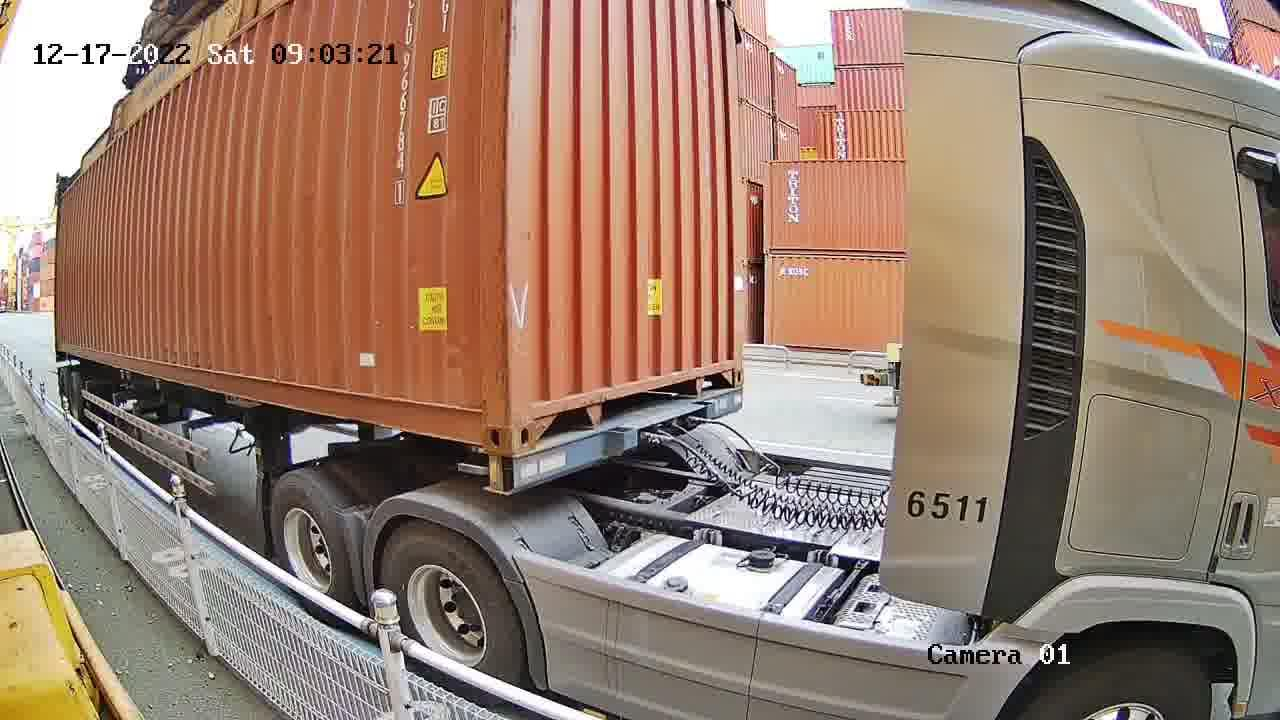Chassis: (511, 388, 744, 494)
Cone: (476, 453, 513, 493)
Container: (506, 348, 745, 454)
Hole_L: (508, 382, 554, 454)
Hole_R: (456, 383, 512, 454), (717, 347, 743, 390)
Tire: (372, 527, 525, 681), (273, 474, 349, 600)
